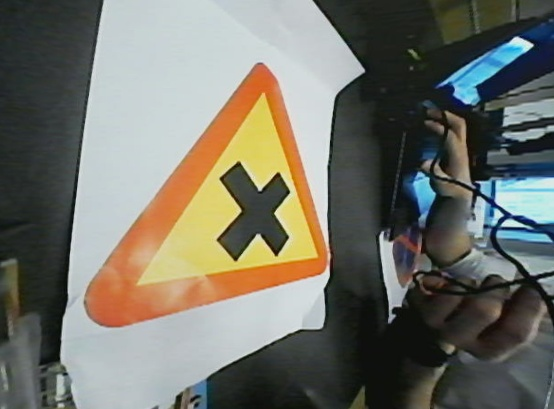junction: (60, 51, 353, 324)
